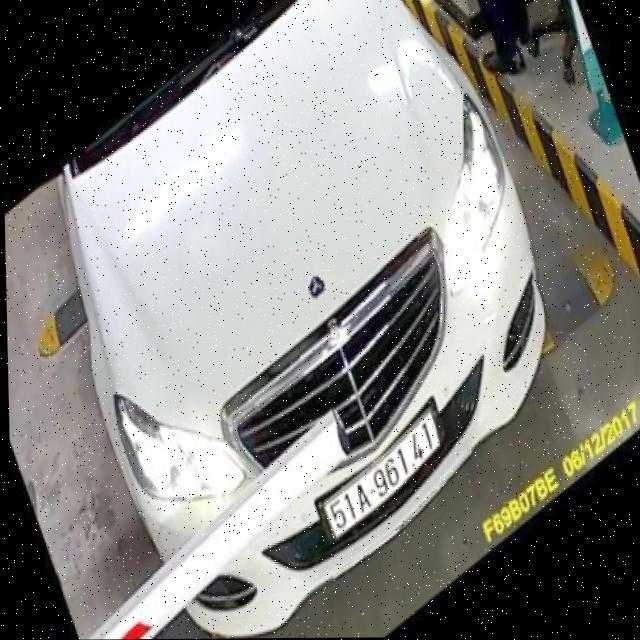car: (53, 0, 553, 640)
plate: (311, 399, 448, 542)
